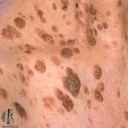Actinic: (12, 7, 104, 113)
